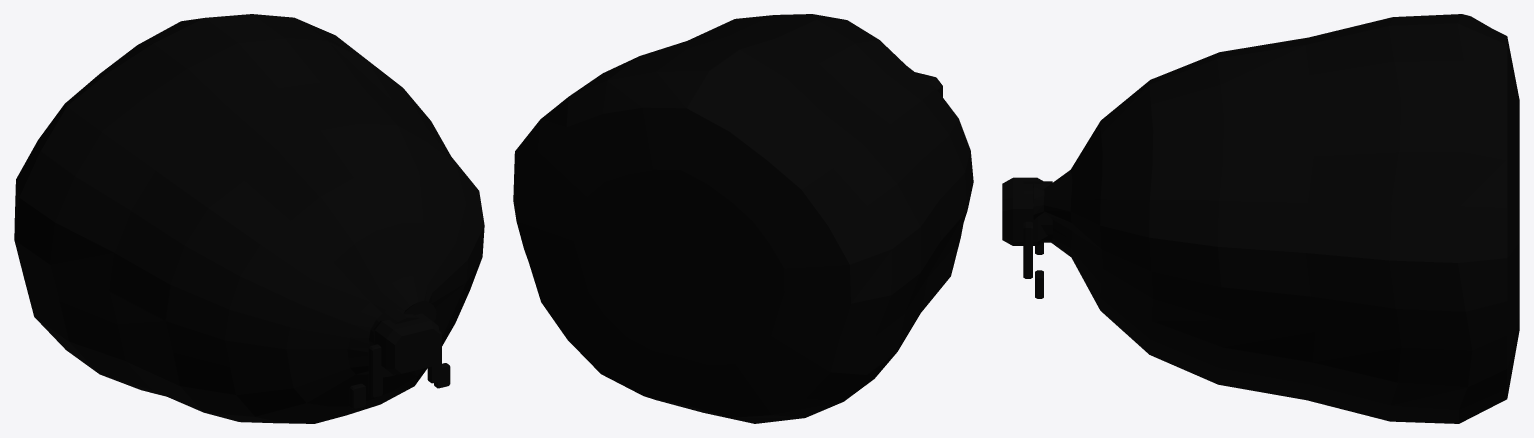
The model's file is PZ_DST_03_Trash_Bag_Blue_150L.glb.
The picture shows the model from 3 angles, left to right: view 1: azimuth 30°, elevation 25°; view 2: azimuth 150°, elevation 25°; view 3: azimuth 270°, elevation 25°; orthographic projection. The views are drawn at different scales.
Parts seen in each view (by area): view 1: BAG_01_SealedOrganicLobedBody, BAG_03_TiedKnot_CrumpledPolymer, BAG_04_TwistTies_FreeLoopEnds, BAG_02_NeckTighteningBand; view 2: BAG_01_SealedOrganicLobedBody; view 3: BAG_01_SealedOrganicLobedBody, BAG_03_TiedKnot_CrumpledPolymer, BAG_04_TwistTies_FreeLoopEnds, BAG_02_NeckTighteningBand.
Part boxes in pixels (x1,y1,x2,y2): BAG_01_SealedOrganicLobedBody: [14, 14, 484, 423]; BAG_03_TiedKnot_CrumpledPolymer: [373, 313, 439, 374]; BAG_04_TwistTies_FreeLoopEnds: [349, 331, 450, 408]; BAG_02_NeckTighteningBand: [369, 308, 418, 345]; BAG_01_SealedOrganicLobedBody: [513, 14, 973, 423]; BAG_01_SealedOrganicLobedBody: [1033, 14, 1519, 423]; BAG_03_TiedKnot_CrumpledPolymer: [1002, 177, 1047, 245]; BAG_04_TwistTies_FreeLoopEnds: [1023, 221, 1043, 298]; BAG_02_NeckTighteningBand: [1023, 181, 1052, 242].
Size of the model in its own units: 0.8448 by 0.7188 by 0.9248.
Materials: 1 (1 with a texture image).
